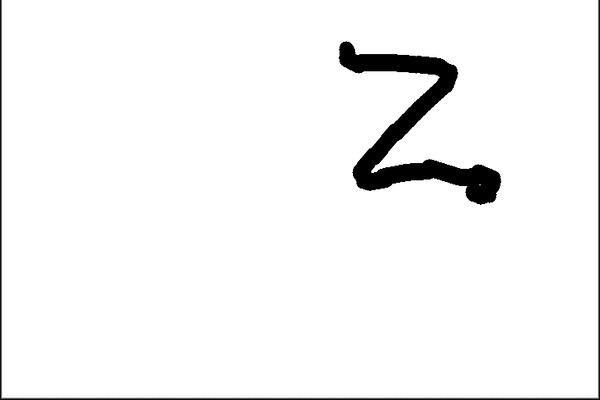Z: (320, 28, 505, 219)
